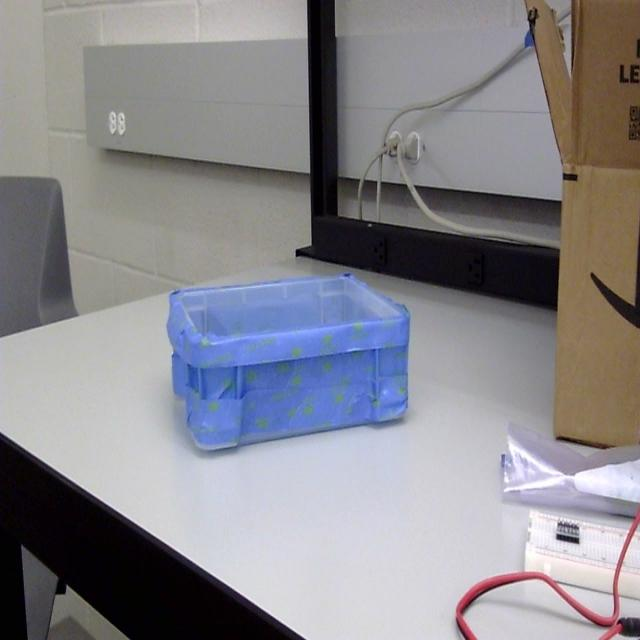bucket: (166, 276, 411, 456)
